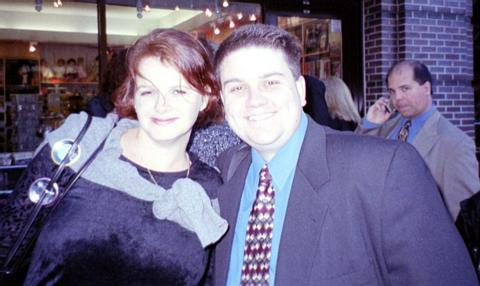person: (3, 29, 220, 286), (353, 59, 480, 220)
